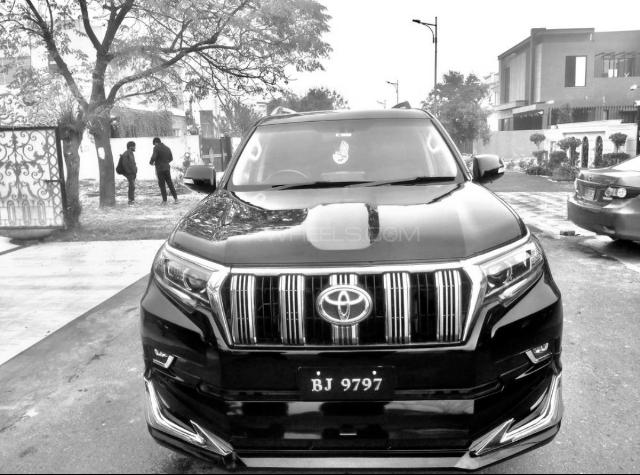Number: (308, 374, 386, 396)
